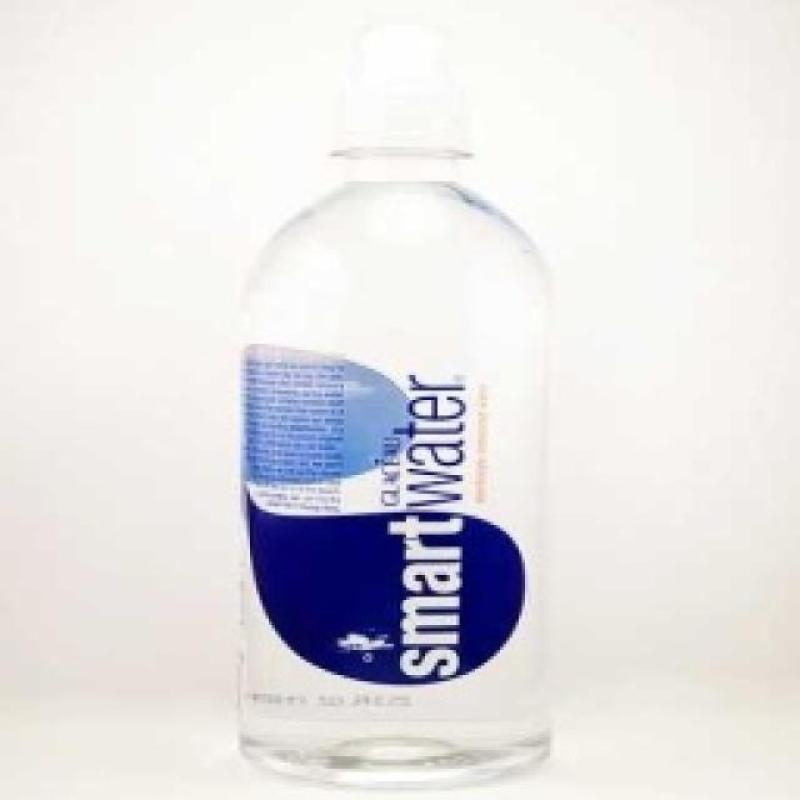botella: (232, 82, 556, 788)
